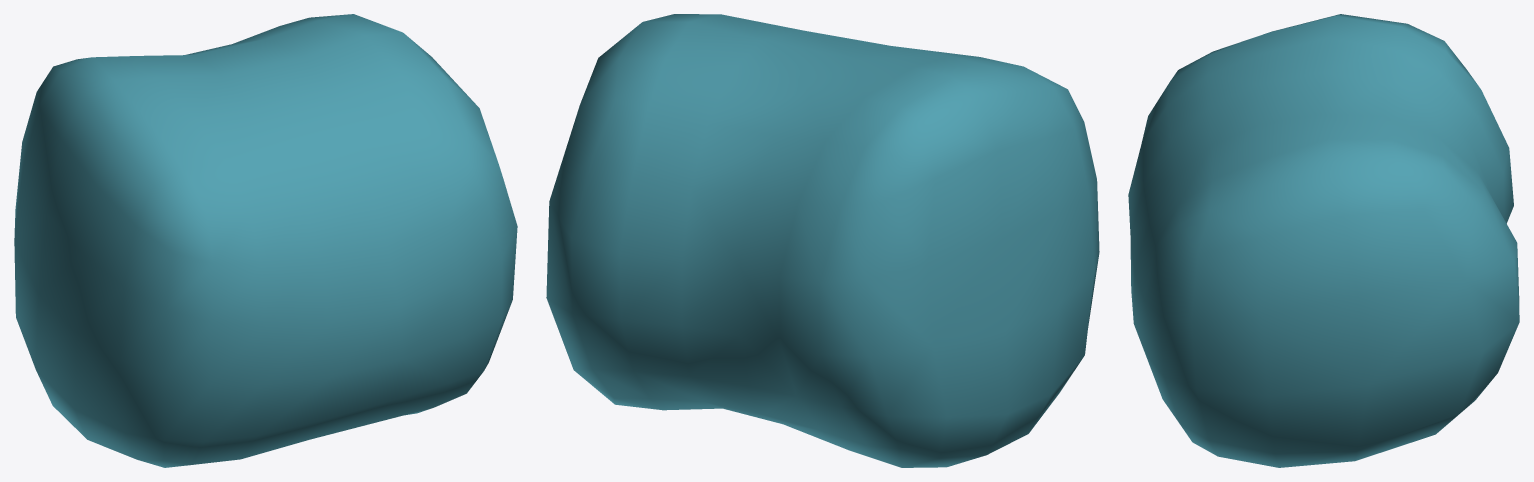
Rendered from VIS_Alpha_Surface_023.dae.
The picture shows the model from 3 angles, left to right: view 1: azimuth 30°, elevation 25°; view 2: azimuth 150°, elevation 25°; view 3: azimuth 270°, elevation 25°; orthographic projection. The views are drawn at different scales.
Parts seen in each view (by area): view 1: VIS_Alpha_Surface_023; view 2: VIS_Alpha_Surface_023; view 3: VIS_Alpha_Surface_023.
Part boxes in pixels (x1,y1,x2,y2): VIS_Alpha_Surface_023: (14,14,517,467); VIS_Alpha_Surface_023: (546,14,1099,467); VIS_Alpha_Surface_023: (1128,14,1519,467).
Bounding box in the file's own units: 2.6 × 2.27 × 2.11.
